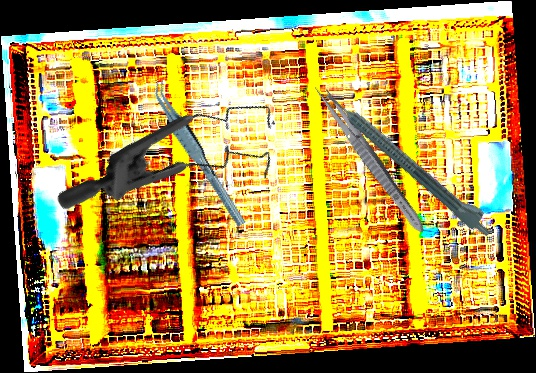Dressing Forceps: (309, 80, 431, 238)
Handpiece: (322, 81, 500, 242)
Speculum: (52, 37, 304, 296)
Tissue Forceps: (148, 71, 248, 236)
